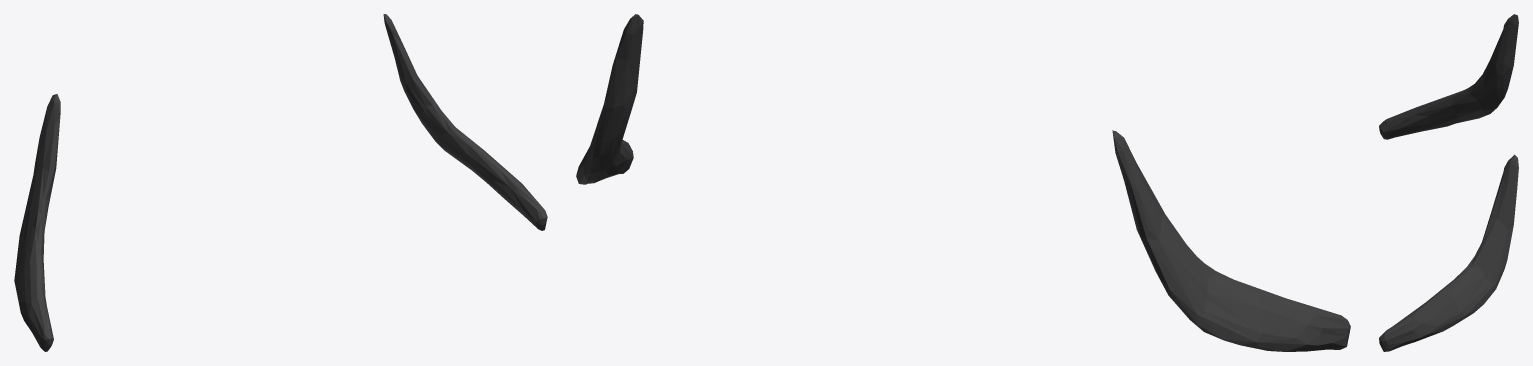
Rendered from m_teres_minor.glb.
3 renders of one model, left to right at view 1: azimuth 30°, elevation 25°; view 2: azimuth 150°, elevation 25°; view 3: azimuth 270°, elevation 25°, orthographic. The views are drawn at different scales.
Parts seen in each view (by area): view 1: m_teres_minor; view 2: m_teres_minor; view 3: m_teres_minor.
Boxes of the visible parts, bbox=[...] form: m_teres_minor: bbox=[14, 14, 547, 351]; m_teres_minor: bbox=[576, 14, 1350, 351]; m_teres_minor: bbox=[1379, 14, 1518, 351].
Size of the model in its own units: 0.00616 by 0.00213 by 0.00168.
1 material, 1 textured.
